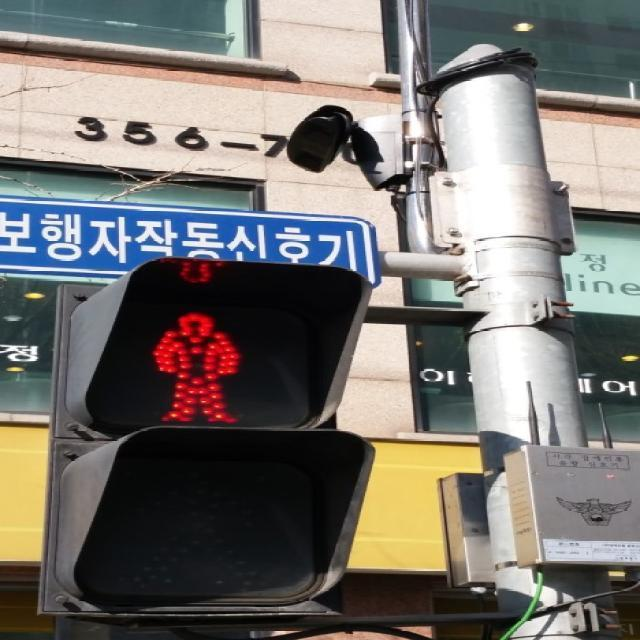red_light: (137, 309, 258, 423)
